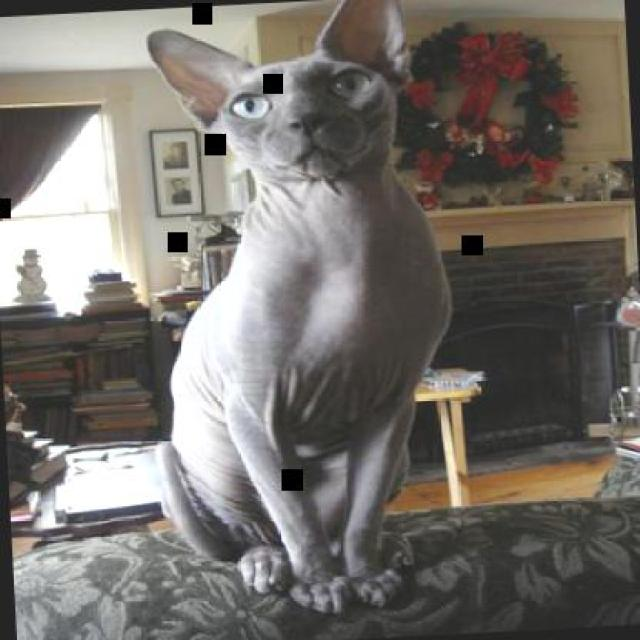cat: (131, 0, 471, 625)
